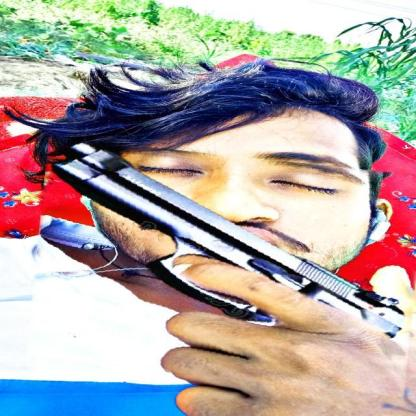handgun: (30, 146, 416, 387)
